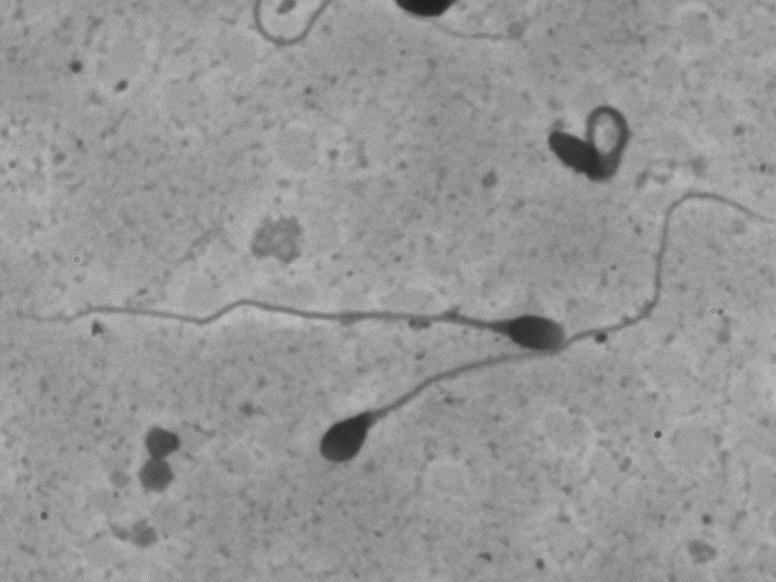Abnormal: (295, 373, 475, 528)
Normal: (22, 278, 588, 350)
